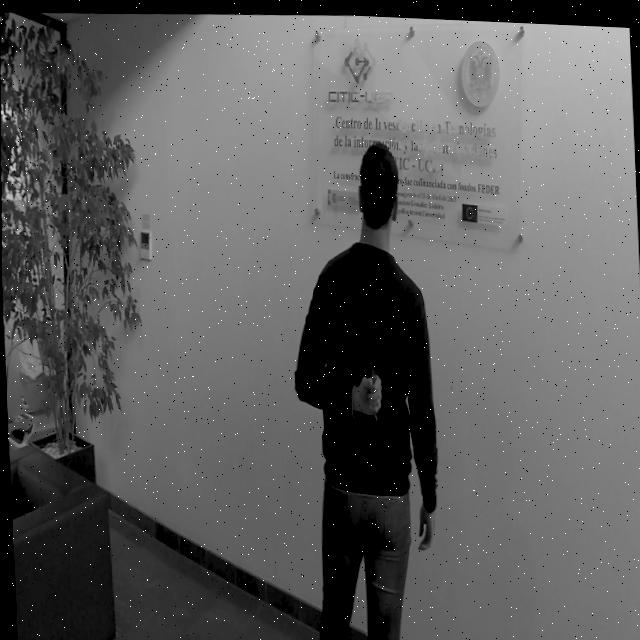knife: (365, 330, 376, 377)
